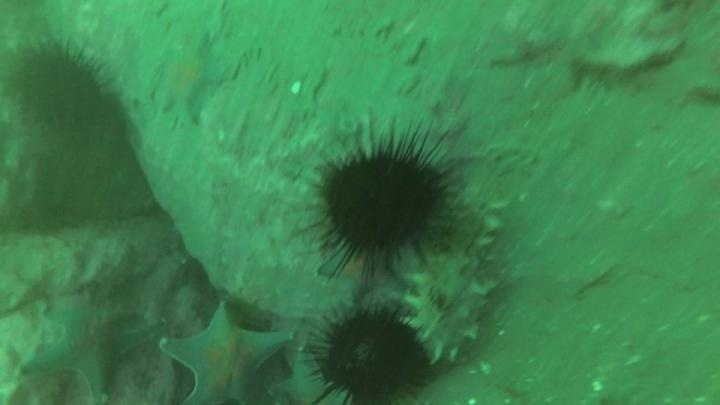echinus: (303, 123, 462, 281), (308, 303, 434, 405), (11, 38, 112, 136)
holothurian: (402, 191, 507, 369)
starfish: (17, 290, 154, 402), (157, 299, 295, 405), (153, 34, 228, 127)
